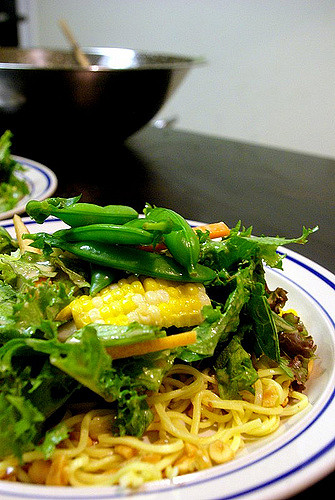chopped lettuce: (209, 235, 279, 361), (11, 282, 45, 451)
plain spaghetti: (78, 435, 166, 472)
